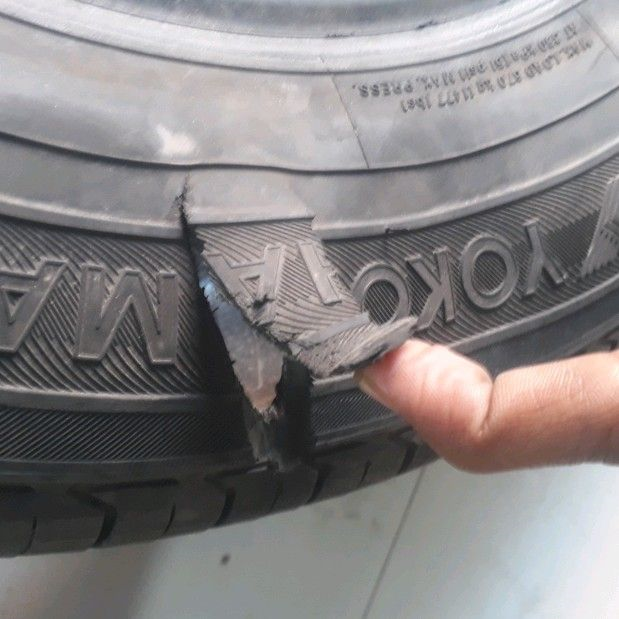cut: (174, 195, 318, 475)
